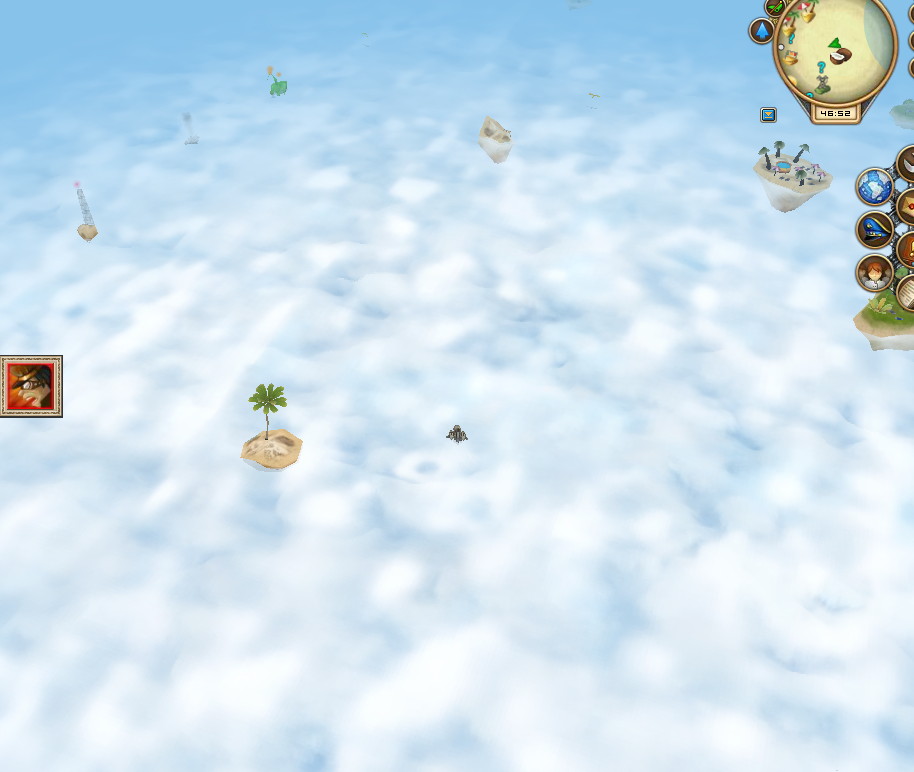dandelion-full: (263, 60, 290, 100)
palm: (235, 379, 307, 473)
